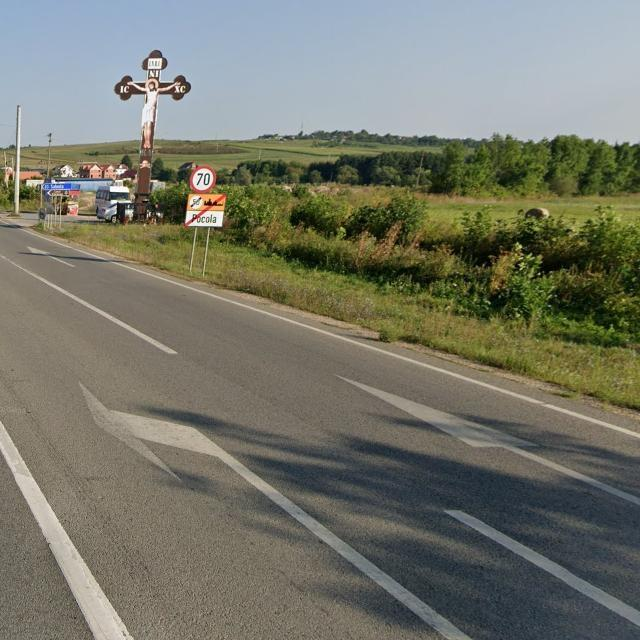forb_speed_over_70: (190, 166, 216, 194)
